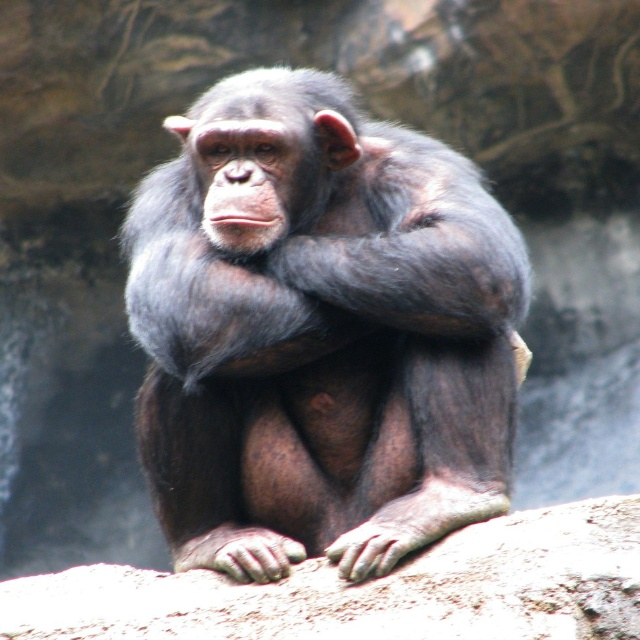Monkey: (106, 57, 539, 605)
